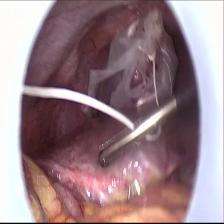Grasper: (97, 116, 158, 172)
Specimen Bag: (84, 7, 182, 117)
